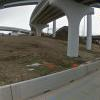Bridge: (5, 2, 100, 49)
